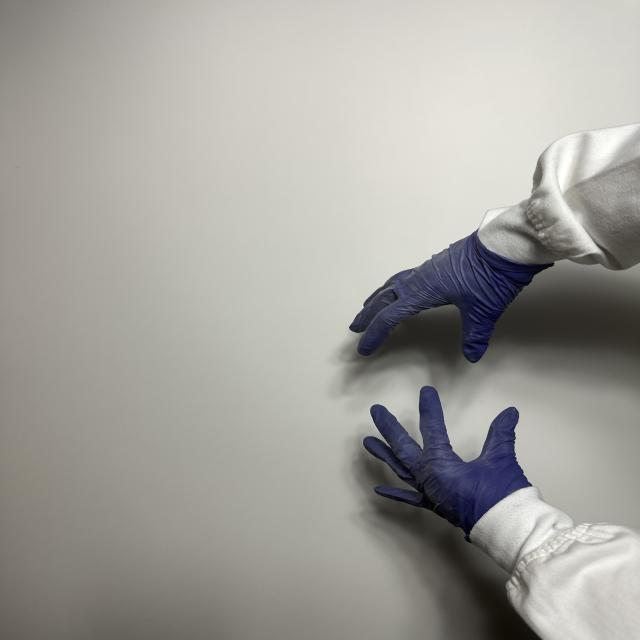gloves_contaminated: (351, 232, 553, 362), (364, 386, 531, 540)
